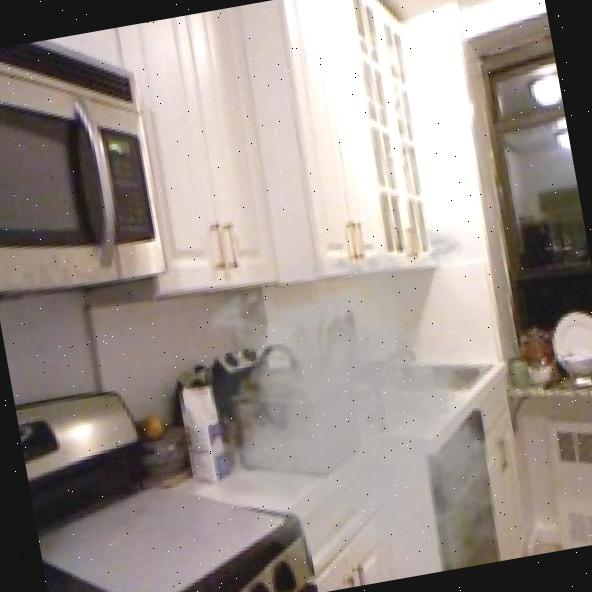smoke: (144, 201, 571, 592)
